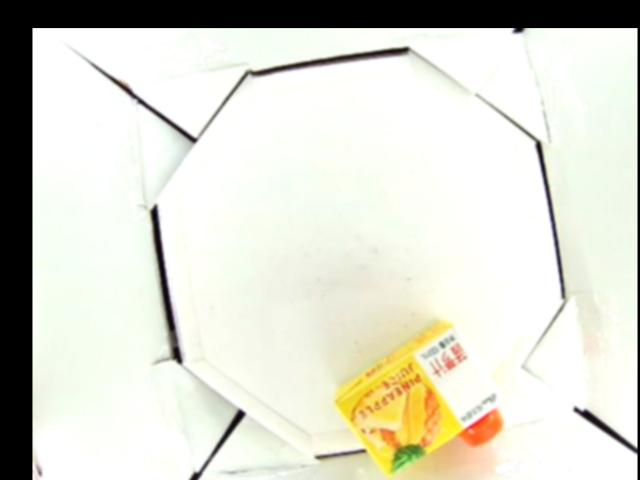Bottle: (332, 318, 506, 478)
